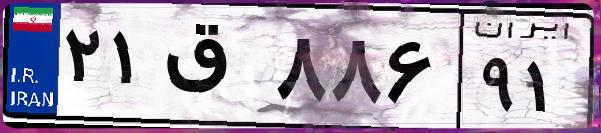1: (525, 38, 570, 115), (110, 28, 158, 98)
2: (57, 26, 110, 100)
6: (385, 28, 445, 110)
8: (270, 28, 330, 110), (330, 28, 385, 110)
9: (475, 38, 525, 113)
ق: (158, 20, 270, 120)
